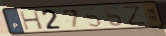2: (41, 8, 66, 32)
5: (102, 6, 124, 27), (82, 7, 103, 28)
7: (62, 8, 80, 28)
H: (18, 9, 45, 31)
Z: (121, 4, 148, 27)
